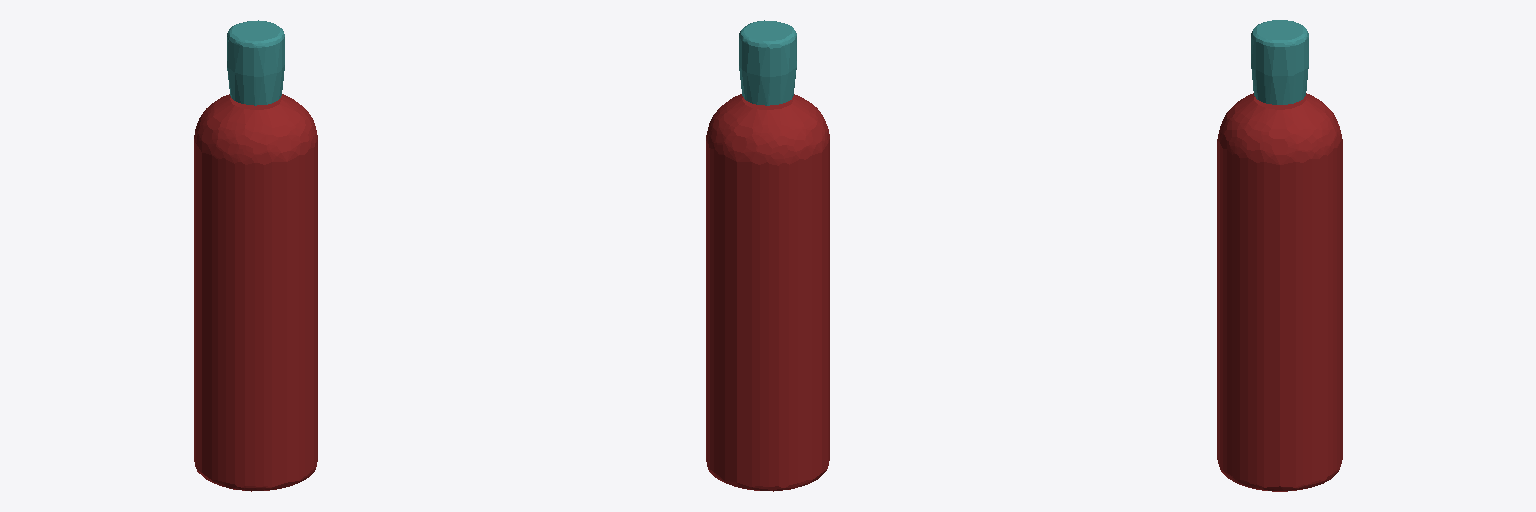
The robot description file, URDF, robot "root":
<robot name="root">
  <link name="bottle_body">
    <inertial>
      <origin xyz="0 0 0" rpy="0 0 0"/>
    </inertial>
    <mass value="1.00E-02"/>
    <visual>
      <origin xyz="0 0 0" rpy="0 0 0"/>
      <geometry>
        <mesh filename="core-bottle-9a777a5f3701fb6b940806ade53ef2f-coacd_convex_piece_1.obj" scale="1.0000E-01 1.0000E-01 1.0000E-01"/>
      </geometry>
      <material name="">
        <color rgba="6.00E-01 2.00E-01 2.00E-01 1"/>
      </material>
    </visual>
    <collision>
      <origin xyz="0 0 0" rpy="0 0 0"/>
      <geometry>
        <mesh filename="core-bottle-9a777a5f3701fb6b940806ade53ef2f-coacd_convex_piece_1.obj" scale="1.0000E-01 1.0000E-01 1.0000E-01"/>
      </geometry>
    </collision>
  </link>
  <link name="bottle_cap">
    <origin xyz="0 0 0.002" rpy="0 0 0"/>
    <mass value="1.00E-02"/>
    <visual>
      <origin xyz="0 0 0.002" rpy="0 0 0"/>
      <geometry>
        <mesh filename="core-bottle-9a777a5f3701fb6b940806ade53ef2f-coacd_convex_piece_0.obj" scale="1.0000E-01 1.0000E-01 1.0000E-01"/>
      </geometry>
      <material name="">
        <color rgba="3.00E-01 6.00E-01 6.00E-01 1"/>
      </material>
    </visual>
    <collision>
      <origin xyz="0 0 0.002" rpy="0 0 0"/>
      <geometry>
        <mesh filename="core-bottle-9a777a5f3701fb6b940806ade53ef2f-coacd_convex_piece_0.obj" scale="1.0000E-01 1.0000E-01 1.0000E-01"/>
      </geometry>
    </collision>
  </link>
  <joint name="bottle_cap_joint" type="revolute">
    <origin xyz="0 0 0" rpy="0 0 0"/>
    <parent link="bottle_body"/>
    <child link="bottle_cap"/>
    <axis xyz="0 0 1"/>
    <limit lower="0.00" upper="6.28"/>
    <dynamics damping="0.05"/>
  </joint>
</robot>

--- What the picture shows (computed from the rendered views, not written in the file) ---
Views: 3 orthographic renders of the robot side by side, from view 1: azimuth 30°, elevation 25°; view 2: azimuth 150°, elevation 25°; view 3: azimuth 270°, elevation 25°.
Robot: root — 2 links, 1 joints (1 revolute); root link bottle_body; default pose: all joints at 0.
Links seen in each view (by area): view 1: bottle_body, bottle_cap; view 2: bottle_body, bottle_cap; view 3: bottle_body, bottle_cap.
Boxes of the visible links, left/top/right/bottom form: bottle_body: left=194, top=94, right=317, bottom=491; bottle_cap: left=227, top=20, right=284, bottom=105; bottle_body: left=706, top=94, right=829, bottom=491; bottle_cap: left=739, top=20, right=796, bottom=105; bottle_body: left=1217, top=93, right=1342, bottom=491; bottle_cap: left=1251, top=20, right=1308, bottom=104.
Size in the robot's own frame: 0.0499 by 0.0499 by 0.1934 metres.
Meshes: 2 distinct files referenced, 2 mesh visuals loaded (2 OBJ).